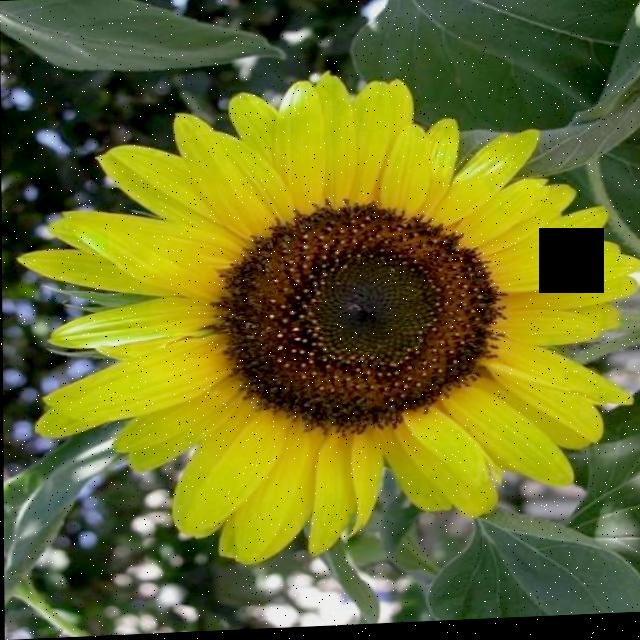sunflower: (14, 19, 640, 591)
